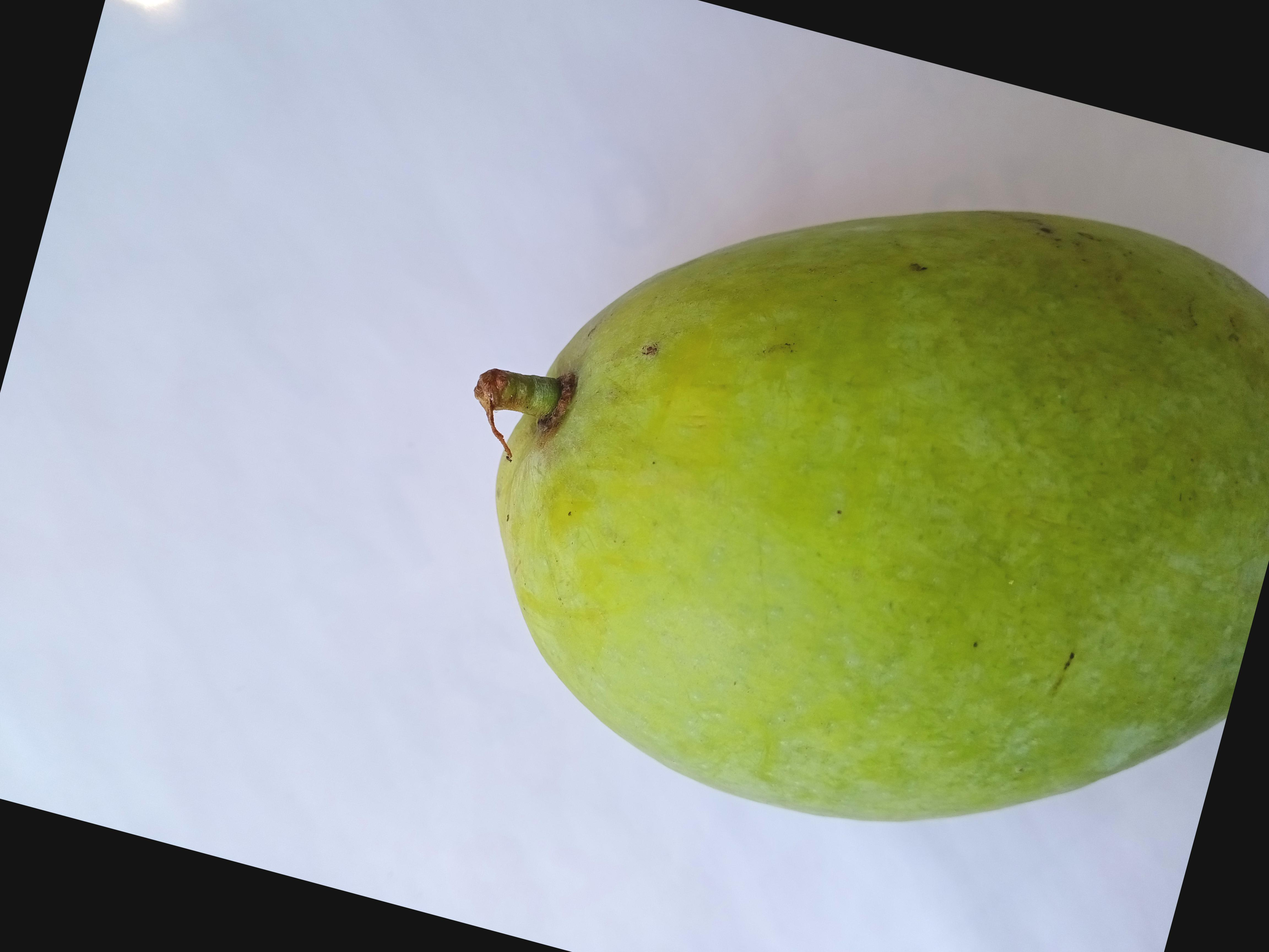Mango Unripe: (541, 0, 1269, 743)
